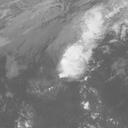cyclone: (57, 45, 89, 81)
